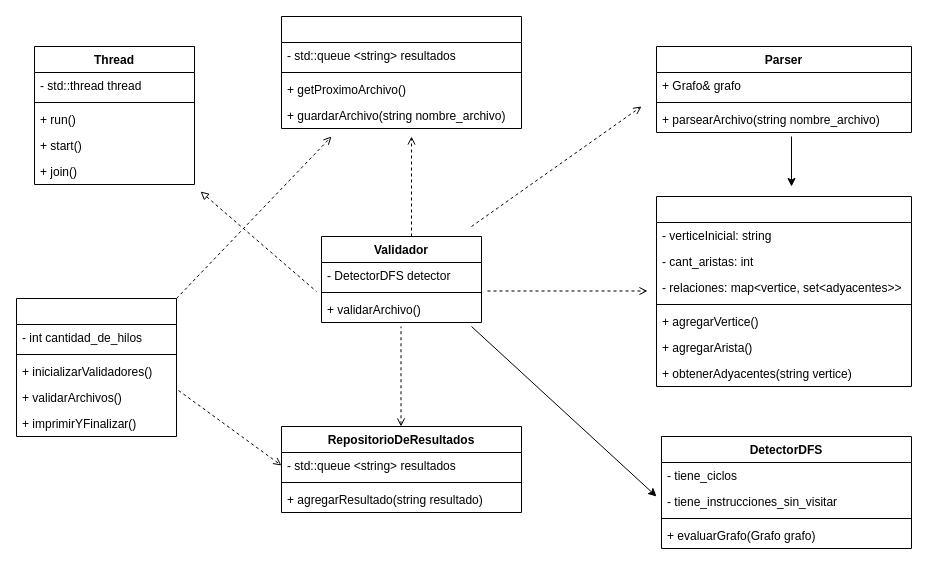
Image size: 928x565. Some labels were removed from this diagram. Here are the shapes that lost their labels. From the top down, the box of each, then its label:
(280, 16, 522, 128): RepositorioDeArchivos
(656, 196, 912, 386): Grafo
(16, 298, 176, 436): VerificadorEBPF
